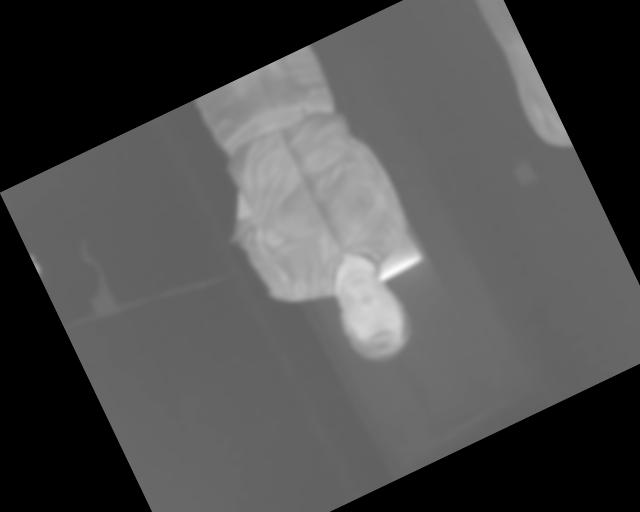face: (320, 257, 423, 373)
